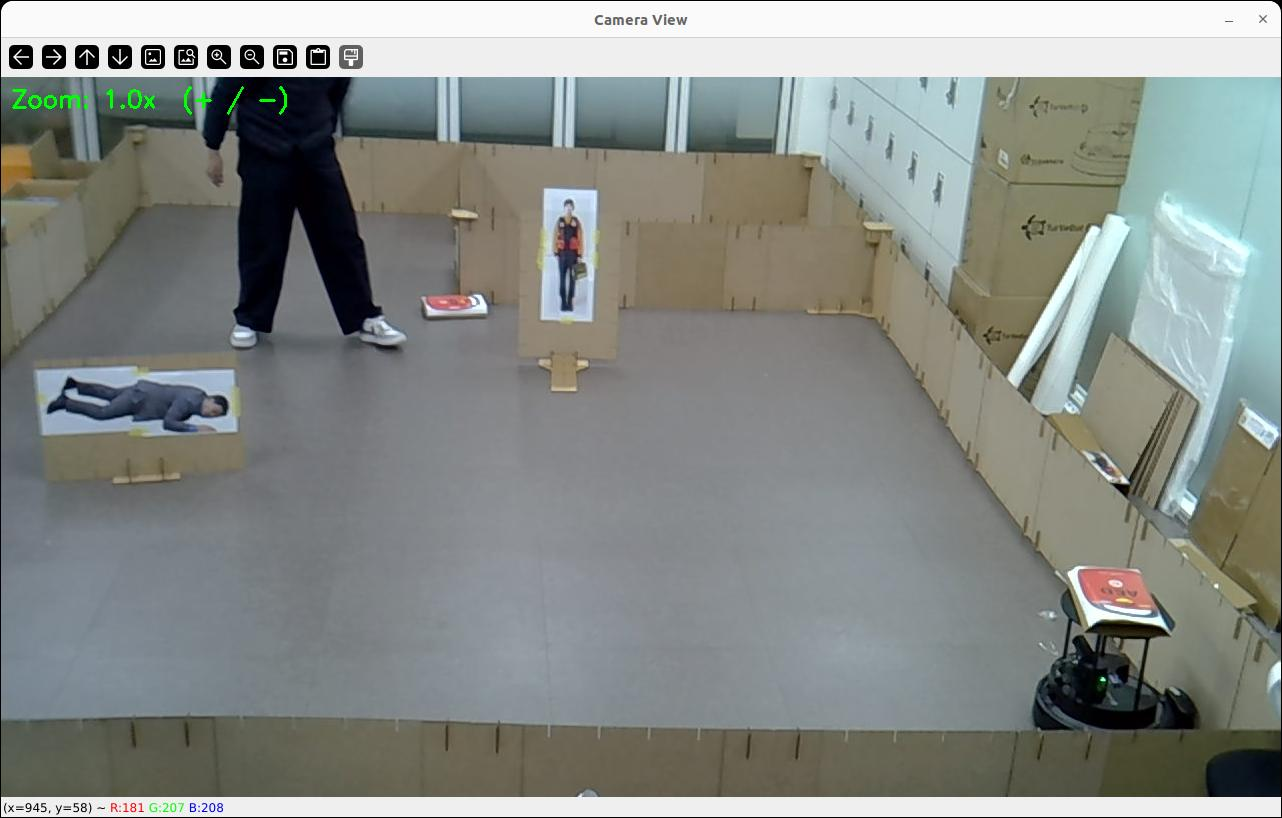Patient: (46, 377, 227, 432)
Responder: (554, 199, 583, 311)
